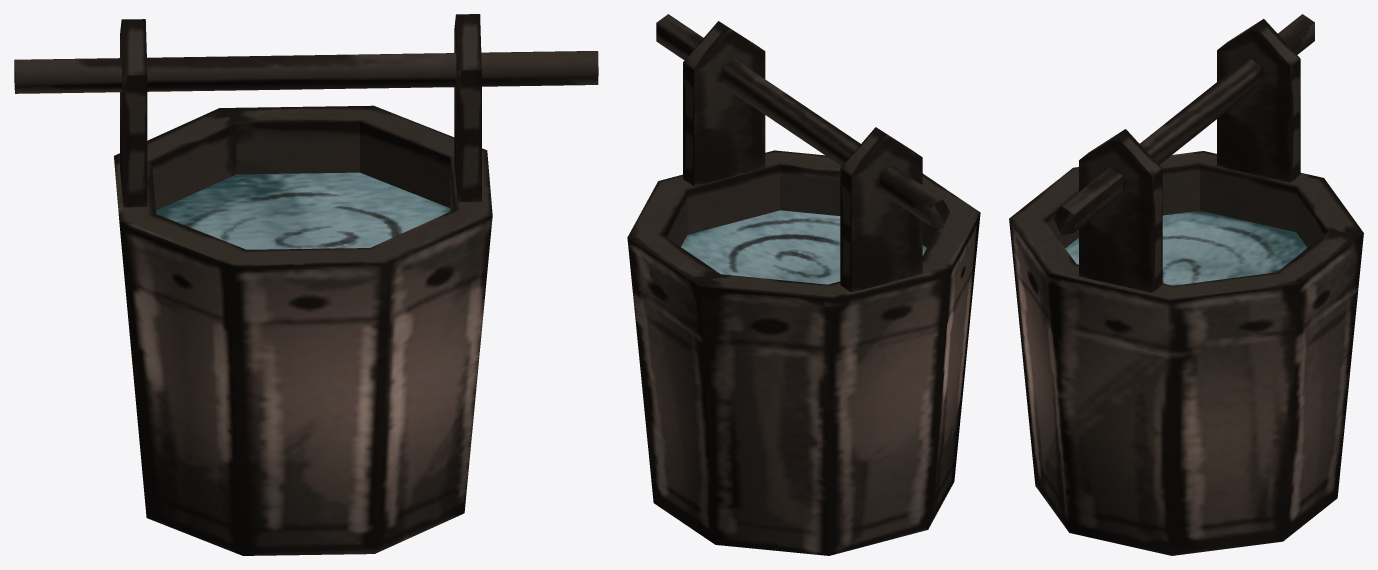
File: PRP_Bucket.FBX
The picture shows the model from 3 angles, left to right: view 1: azimuth 30°, elevation 25°; view 2: azimuth 150°, elevation 25°; view 3: azimuth 270°, elevation 25°; orthographic projection. The views are drawn at different scales.
Parts seen in each view (by area): view 1: PRP_Bucket; view 2: PRP_Bucket; view 3: PRP_Bucket.
Boxes of the visible parts, <box> form: PRP_Bucket: <box>14,14,598,555</box>; PRP_Bucket: <box>627,14,980,555</box>; PRP_Bucket: <box>1009,14,1363,555</box>.
Size of the model in its own units: 107 by 105 by 81.71.
1 material, 1 textured.
